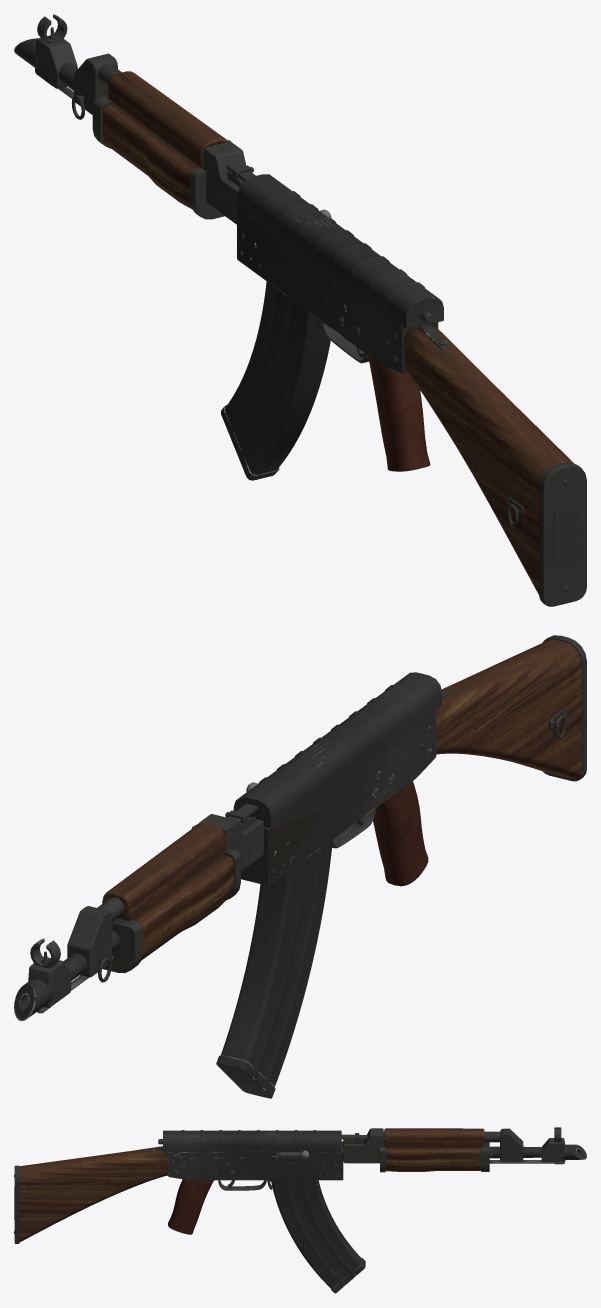
File: weapon_ak47.glb
3 views of the same model, one above another, from view 1: azimuth 30°, elevation 25°; view 2: azimuth 150°, elevation 25°; view 3: azimuth 270°, elevation 25° (orthographic). The views are drawn at different scales.
Parts seen in each view (by area): view 1: Body; view 2: Body; view 3: Body.
Part boxes in pixels (box(x1,y1,x2,y2)): Body: box(14, 14, 586, 606); Body: box(14, 635, 586, 1098); Body: box(14, 1127, 586, 1293).
Bounding box in the file's own units: 0.0617 × 0.2756 × 0.8824.
Materials: 2 (2 with a texture image).
